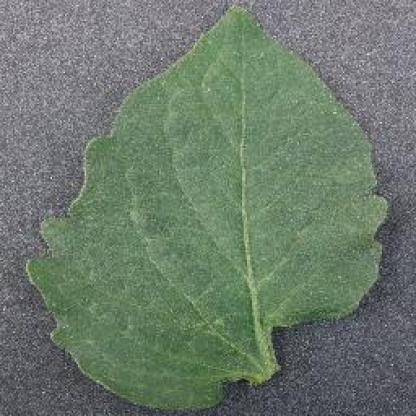good leaf: (56, 27, 401, 393)
